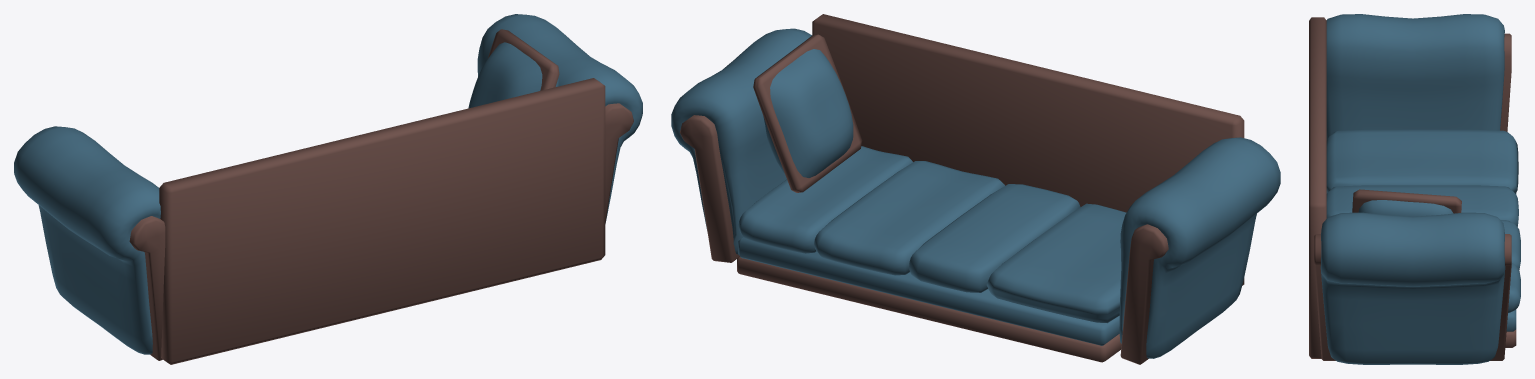
File: luigi_sofa2.fbx
The picture shows the model from 3 angles, left to right: view 1: azimuth 30°, elevation 25°; view 2: azimuth 150°, elevation 25°; view 3: azimuth 270°, elevation 25°; orthographic projection. The views are drawn at different scales.
Parts seen in each view (by area): view 1: sofa2; view 2: sofa2; view 3: sofa2.
Boxes of the visible parts, x1=… form: sofa2: x1=14, y1=14, x2=642, y2=364; sofa2: x1=671, y1=14, x2=1280, y2=364; sofa2: x1=1309, y1=14, x2=1520, y2=364.
Bounding box in the file's own units: 300 × 97.19 × 116.
